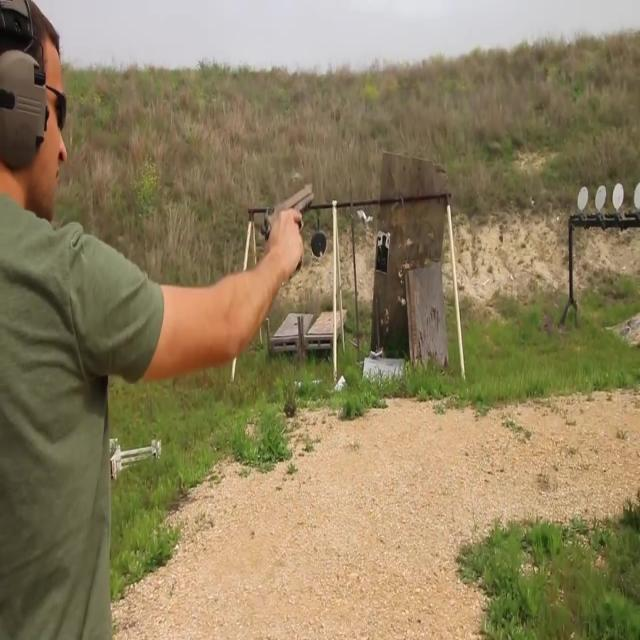Weapon: (220, 144, 340, 292)
